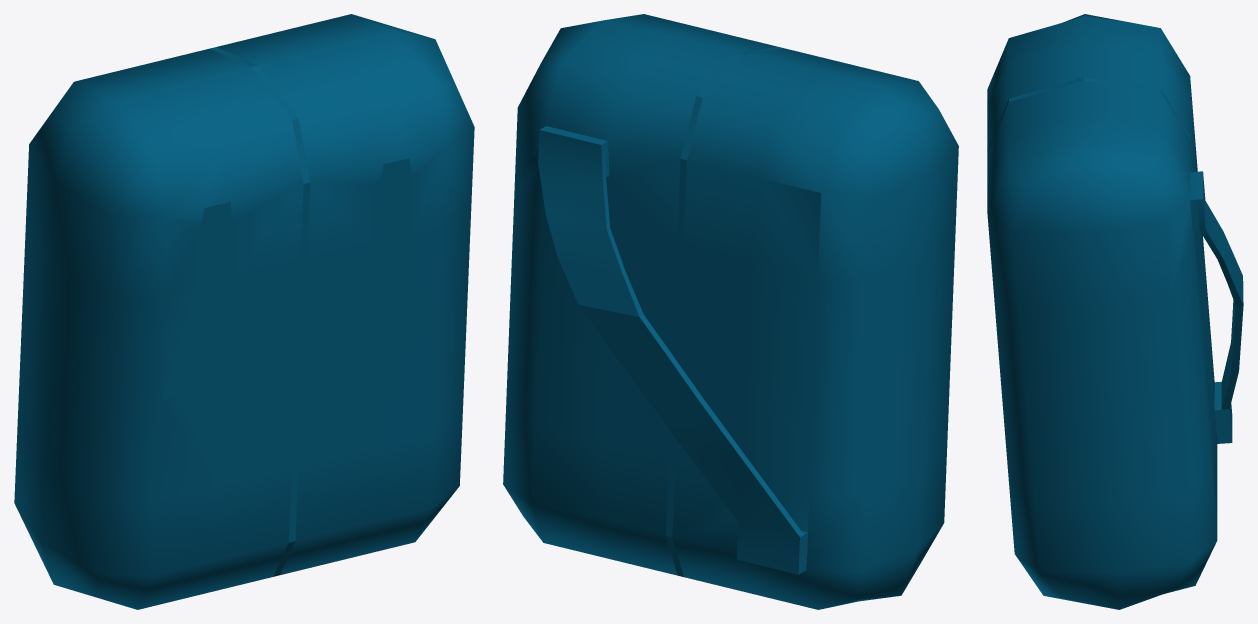
The model's file is Sac.fbx.
3 views of the same model, side by side, from view 1: azimuth 30°, elevation 25°; view 2: azimuth 150°, elevation 25°; view 3: azimuth 270°, elevation 25° (orthographic). The views are drawn at different scales.
Visible parts, largest first — view 1: polySurface40; view 2: polySurface40; view 3: polySurface40.
Part boxes in pixels (bbox=[...]): polySurface40: bbox=[14, 14, 474, 609]; polySurface40: bbox=[503, 14, 958, 609]; polySurface40: bbox=[987, 14, 1243, 609].
Bounding box in the file's own units: 8.3 × 10.22 × 5.11.
